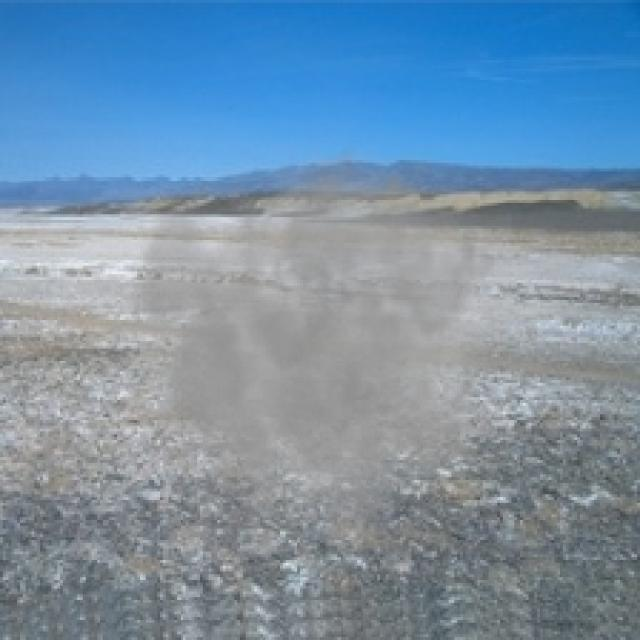smoke: (97, 140, 512, 566)
